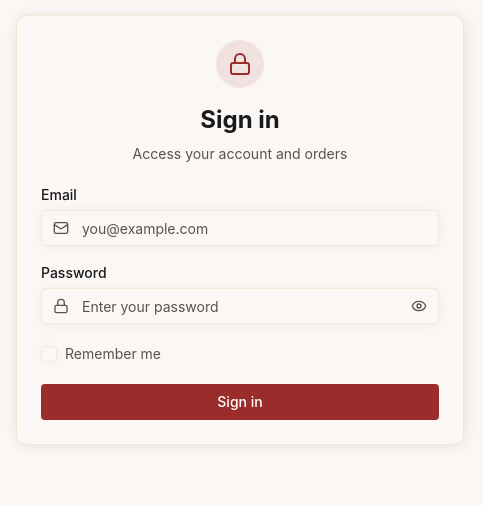
Test: LoginForm › form validation › shows 'Email is required' when submitting empty form
Click the button with test id "login-submit": (240, 402) [41,384,439,420]
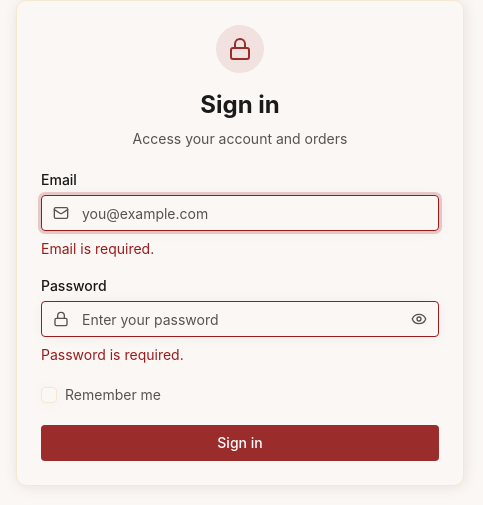
Expected: the text "Email is required." is shown, [41,240,154,257]
